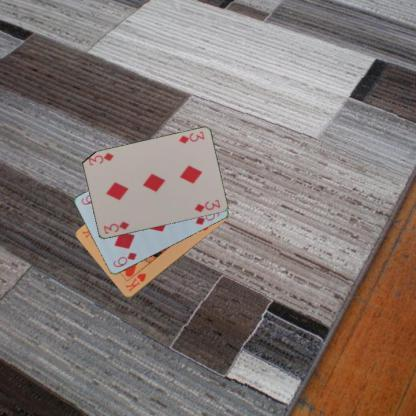3d: (101, 218, 130, 235), (176, 129, 206, 145)
6d: (110, 250, 138, 268)
Kh: (122, 271, 148, 293)
